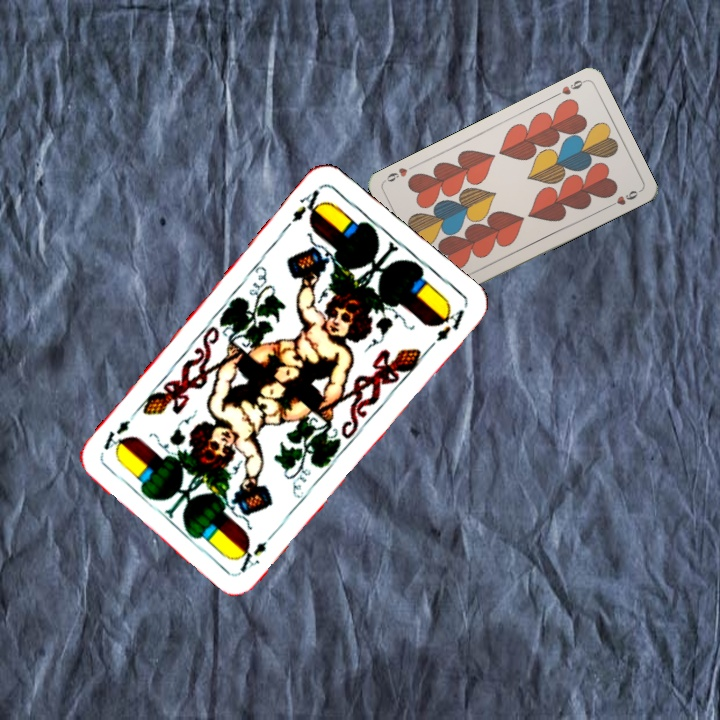EA: (279, 185, 328, 233), (236, 525, 280, 575)
H9: (549, 76, 588, 100)
